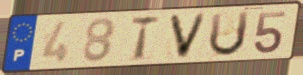4: (38, 19, 73, 66)
5: (253, 10, 289, 55)
8: (81, 16, 119, 65)
T: (129, 14, 162, 63)
U: (207, 9, 252, 59)
V: (167, 11, 210, 60)
